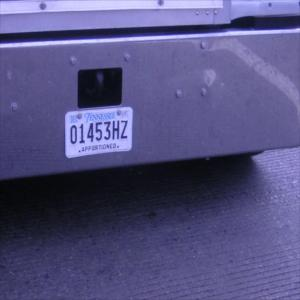Vehicle-registration-plate: (67, 108, 133, 158)
